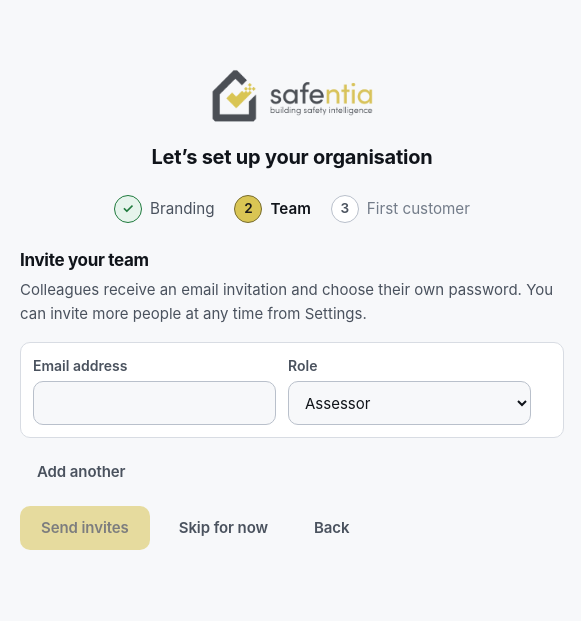
Test: SetupWizard › sends one createInvitation per row, sequentially, and locks sent rows
The image size is (581, 621).
Type "a@example.com" into the field labelled "Email address" at (154, 403), box [33,381,276,425]
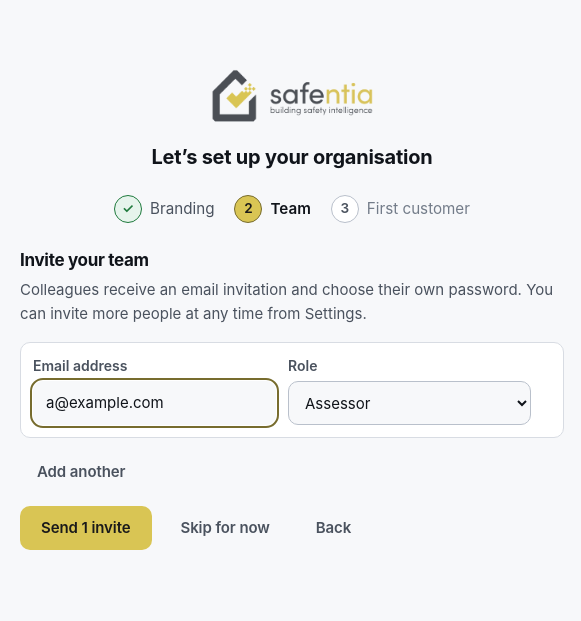
Click the button "Add another" at (81, 472), box [20,450,142,494]
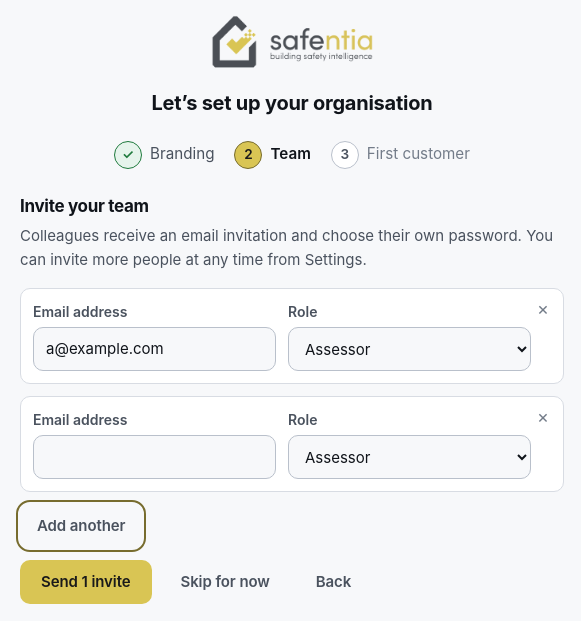
Type "b@example.com" into the 2nd field labelled "Email address" at (154, 458), box [33,436,276,480]
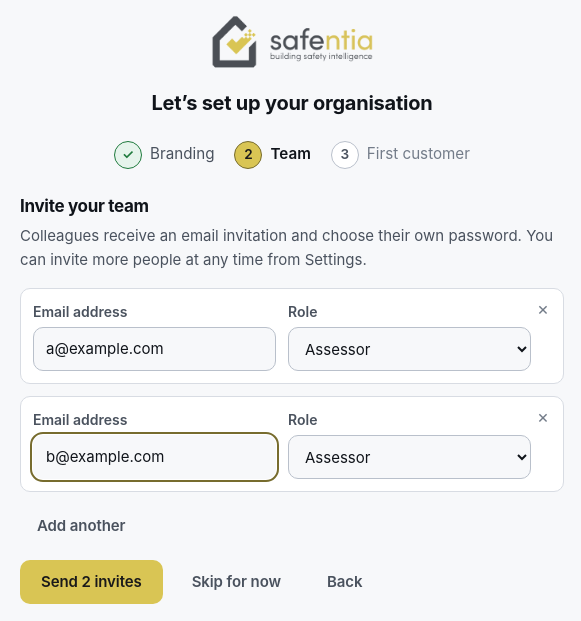
Click the button "Send 2 invites" at (91, 582), box [20,560,163,604]
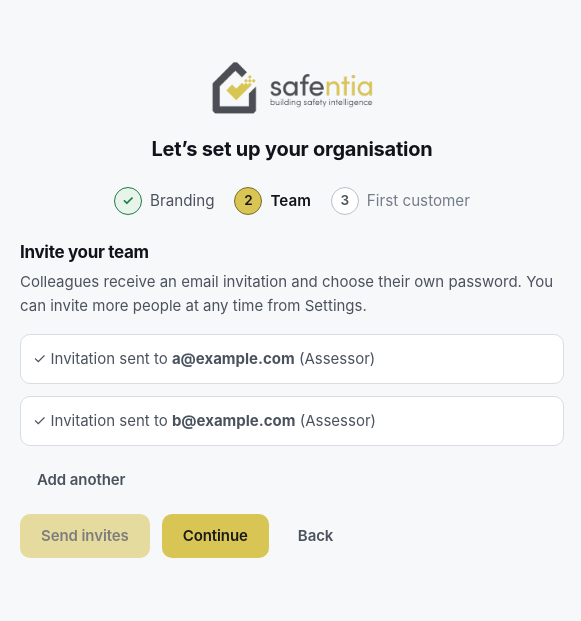
Check: the text "✓ Invitation sent to a@example.com (Assessor)" is shown 2 times, box [33,349,375,368]; [33,411,376,430]
Check: no labels labelled "Email address" are shown
